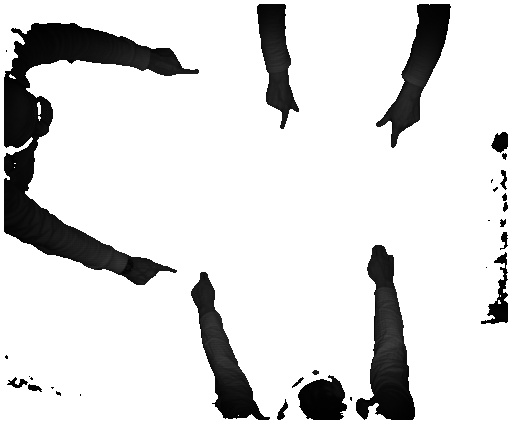hand: (376, 95, 423, 151), (264, 82, 303, 135), (360, 240, 396, 284), (129, 256, 179, 287), (152, 48, 199, 79), (189, 272, 223, 311)
